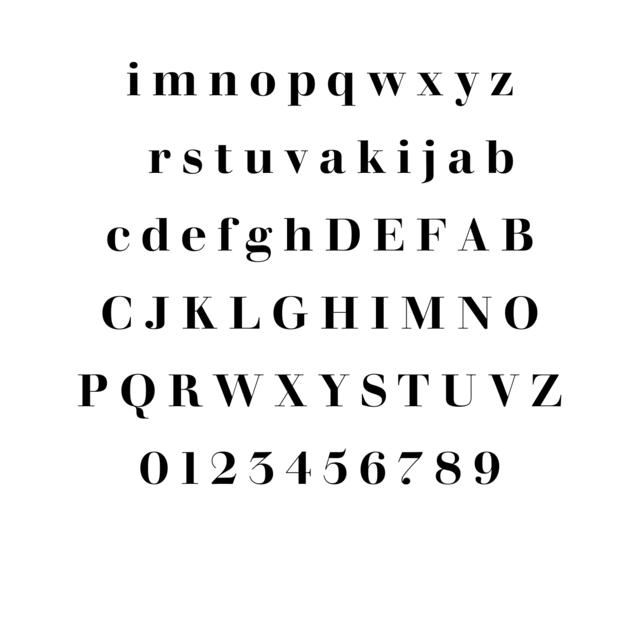alphabet: (118, 372, 159, 421), (212, 372, 254, 408), (503, 295, 540, 332), (456, 295, 493, 331), (442, 373, 478, 409), (271, 295, 306, 332), (320, 296, 358, 330), (168, 373, 204, 408), (325, 219, 361, 253), (274, 373, 308, 409), (100, 294, 132, 332), (77, 372, 110, 408), (180, 296, 213, 332), (231, 373, 264, 408), (398, 372, 430, 408), (138, 450, 169, 487), (501, 216, 534, 250), (487, 373, 519, 408), (285, 70, 315, 106), (140, 217, 170, 253), (328, 70, 357, 107), (358, 448, 386, 486), (372, 217, 404, 250), (318, 373, 348, 408), (458, 216, 488, 251), (248, 450, 274, 490), (416, 219, 446, 253), (409, 296, 437, 332), (210, 449, 237, 486), (530, 373, 558, 408), (322, 448, 347, 487), (368, 71, 407, 96), (474, 450, 501, 486), (436, 450, 462, 487), (398, 450, 424, 486), (453, 70, 479, 106), (360, 373, 386, 408), (143, 296, 168, 332), (164, 70, 197, 96), (283, 451, 307, 485), (486, 145, 514, 174), (245, 227, 268, 262), (217, 215, 239, 251), (283, 217, 305, 253), (416, 70, 444, 97), (180, 227, 206, 254), (244, 150, 272, 175), (371, 296, 390, 332), (178, 451, 198, 485), (318, 149, 344, 175), (448, 149, 474, 175), (250, 72, 276, 98), (284, 149, 310, 175), (106, 226, 131, 252), (210, 72, 236, 97), (489, 71, 514, 97), (181, 148, 203, 176), (216, 143, 234, 174), (293, 222, 311, 252), (429, 296, 444, 332), (126, 60, 140, 97), (283, 215, 295, 251), (147, 148, 163, 174), (261, 148, 275, 173), (151, 72, 164, 96)
